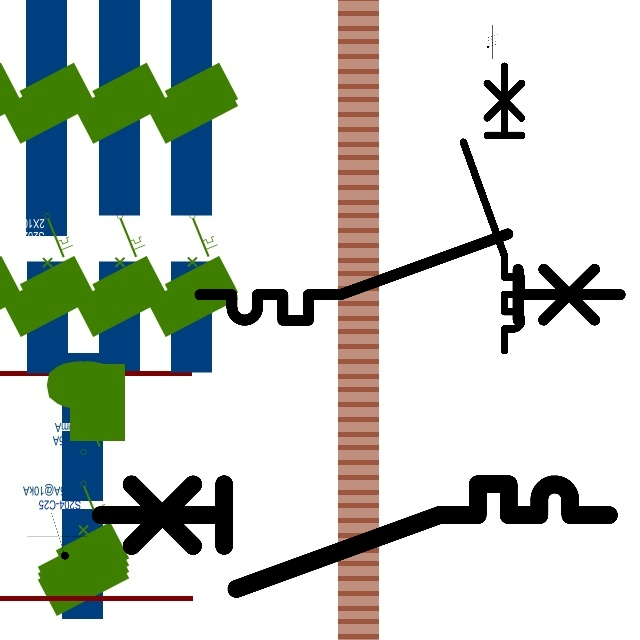interruptor_termomagnetico: (87, 471, 621, 602), (189, 223, 631, 331), (456, 58, 529, 358)
